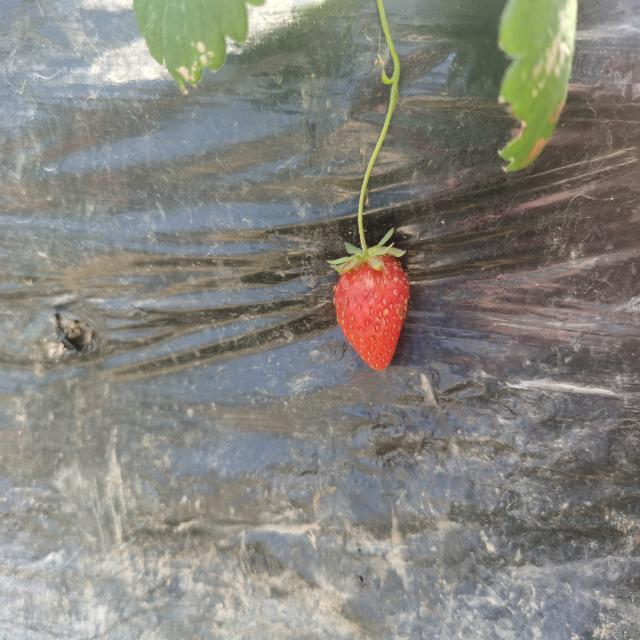stem: (358, 201, 370, 259)
strawberry: (334, 246, 409, 370)
